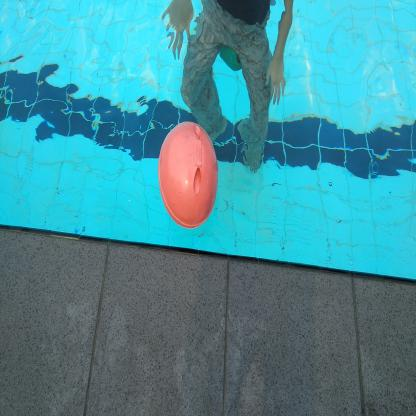red_buoy: (156, 115, 220, 236)
